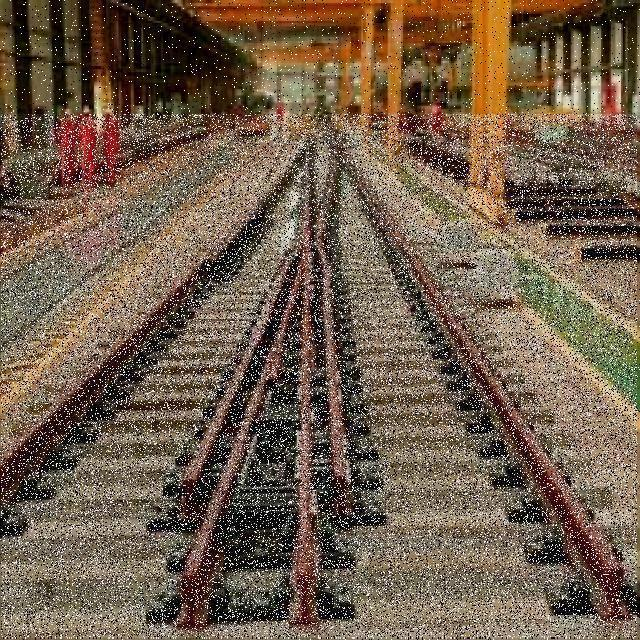rail: (2, 116, 638, 639)
